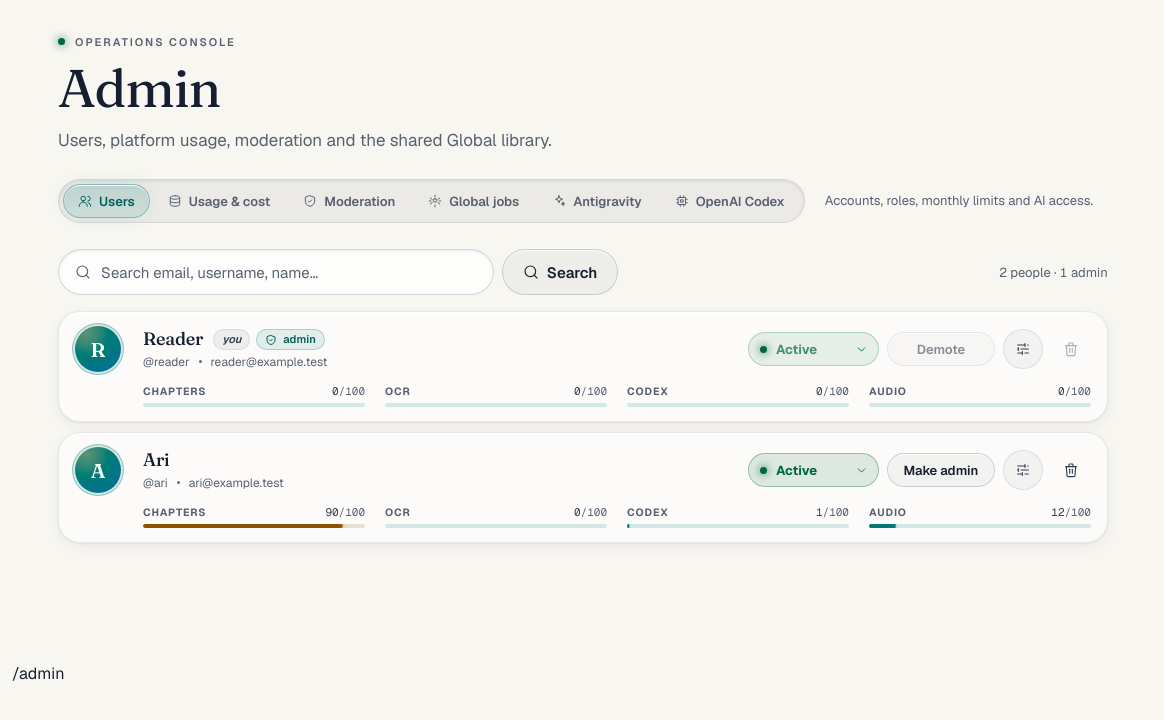
Test case: Admin console › routes tabs as /admin/:tab
The width and height of the screenshot is (1164, 720).
Check: the element named "Ari (@ari)" is shown, box [58, 432, 1108, 543]
Step 1. Click the tab "Usage & cost" → point(219, 201), box [153, 184, 285, 218]
(page scrolled)
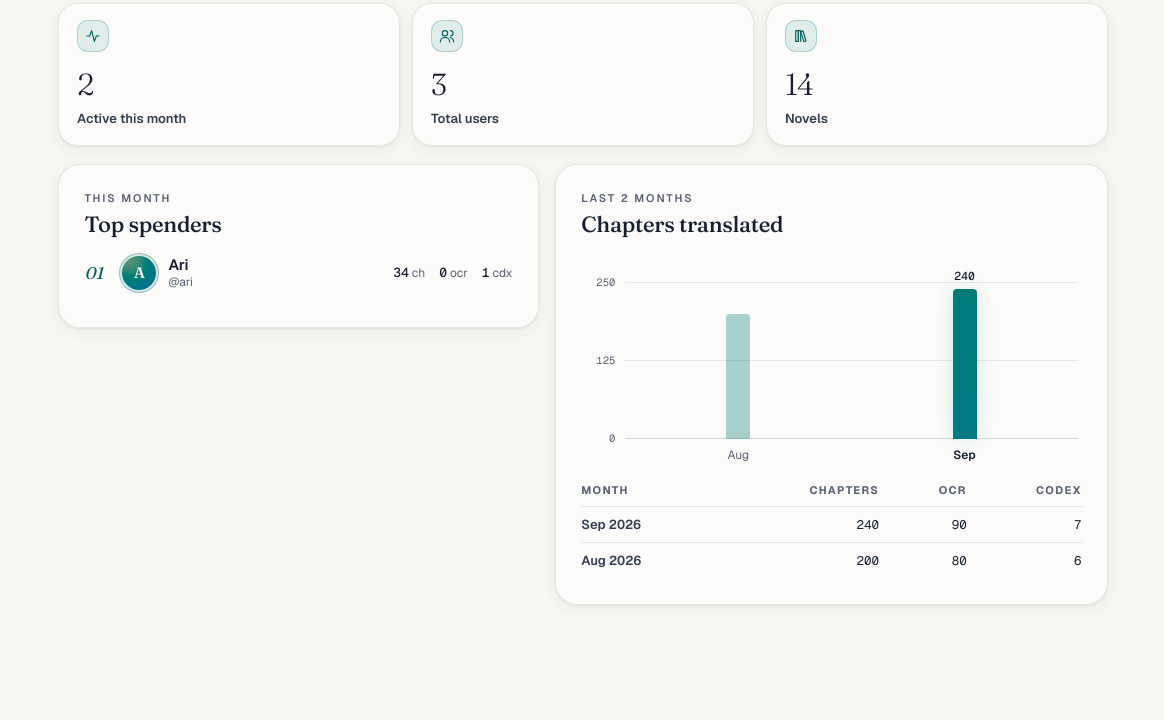
Check: the heading "Top spenders" is shown, box [84, 210, 222, 238]
Check: the table shows "Sep 2026", box [581, 516, 641, 533]
Check: the text "Last 2 months" is shown, box [581, 191, 694, 205]
